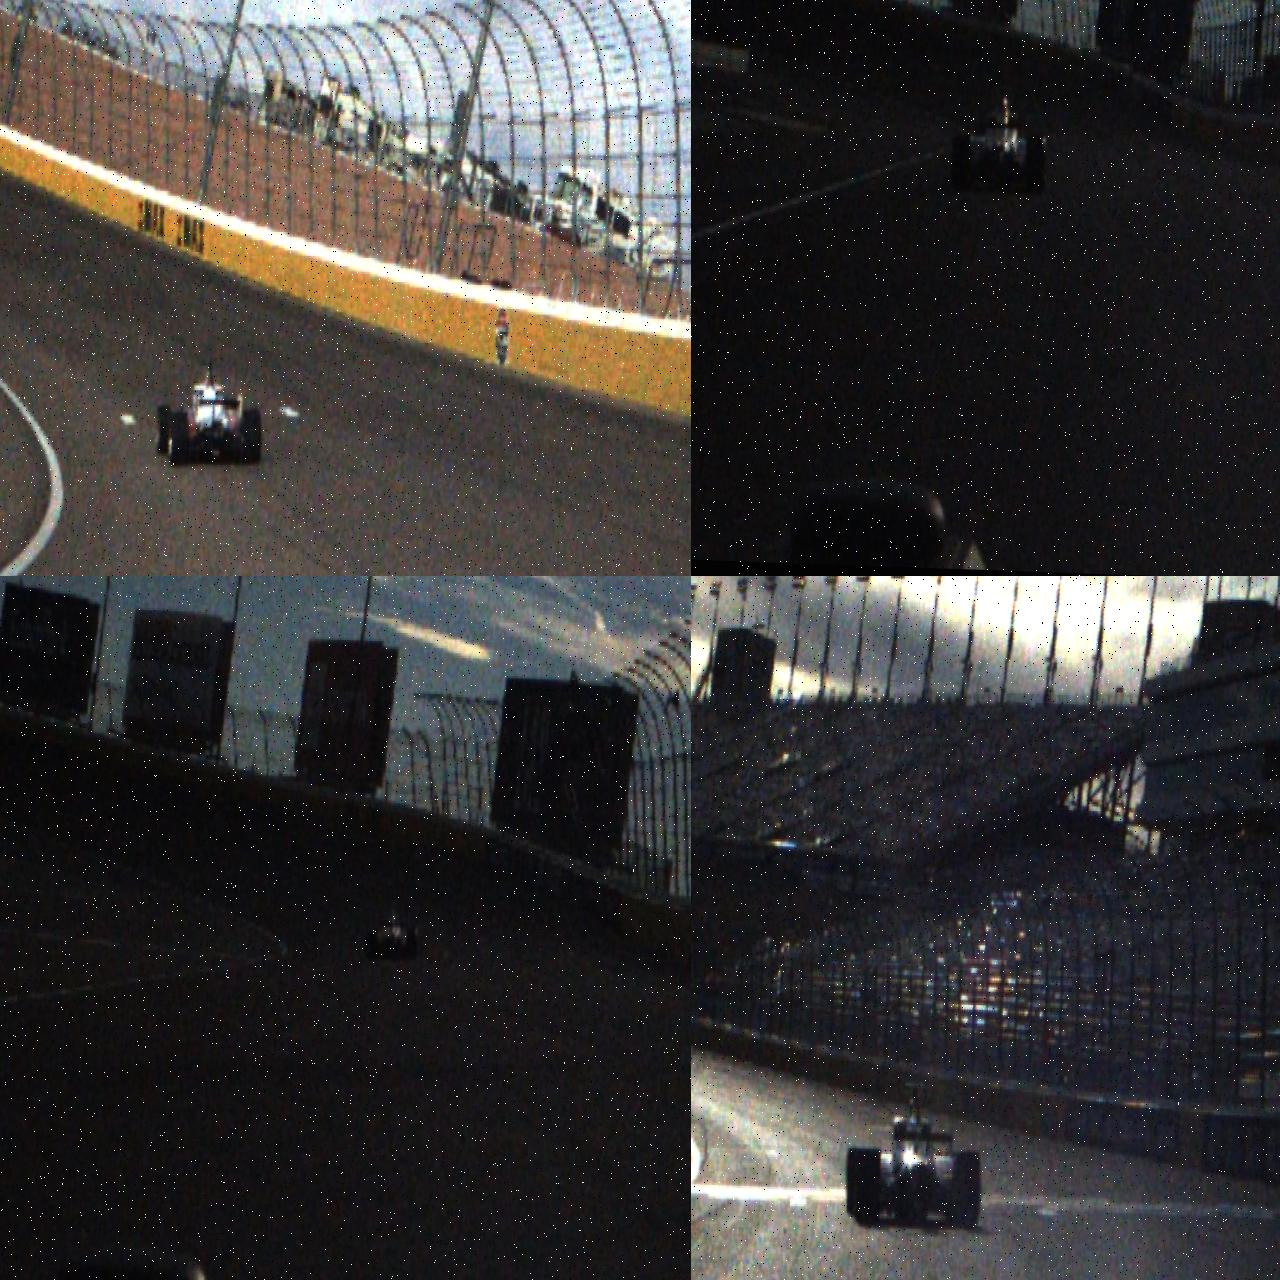AV: (844, 1080, 985, 1231), (155, 354, 265, 470), (949, 89, 1048, 196), (363, 903, 420, 964)
Wheel: (951, 1150, 981, 1231), (852, 1148, 880, 1227), (1024, 134, 1047, 196), (949, 132, 971, 192), (168, 410, 189, 468), (241, 409, 263, 467), (845, 1146, 860, 1216), (156, 402, 171, 455), (363, 930, 377, 961), (407, 928, 418, 962)
